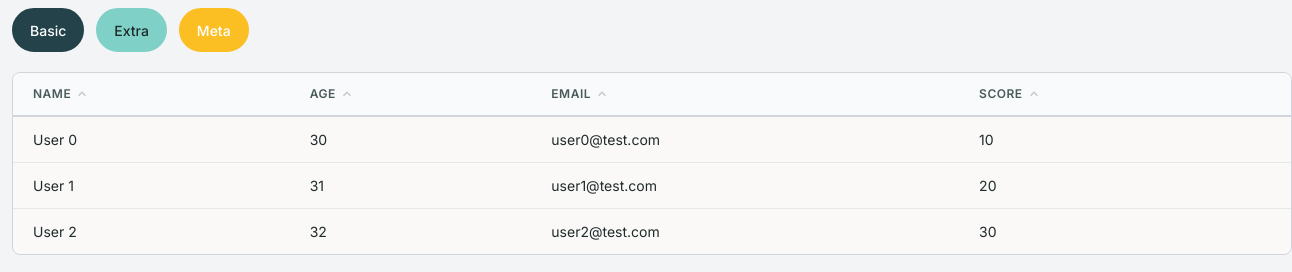
Test: ConfigurableTable › column group toggling › shows columns when a hidden group is toggled on
The width and height of the screenshot is (1292, 272).
# Toggle off extra
Click the button with class "ct-chip" showing "Extra" at (132, 30), box top-left (96, 8), bottom-right (167, 52)
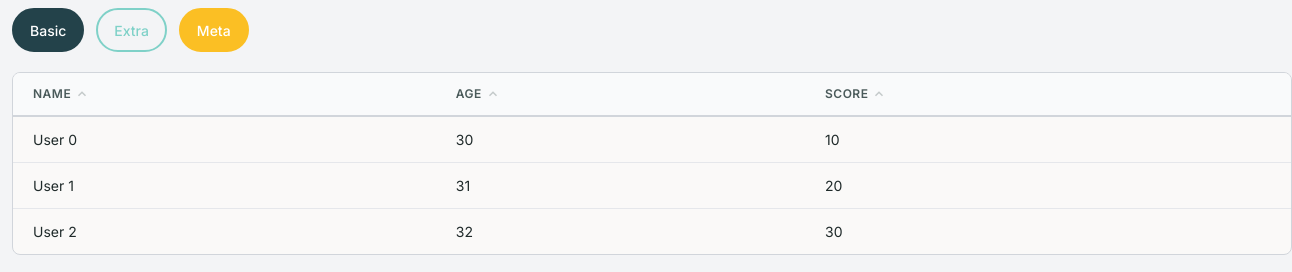
Expected: the number of column headings with class "ct-th-sortable" is 3, top-left (13, 73), bottom-right (436, 116); top-left (436, 73), bottom-right (805, 116); top-left (805, 73), bottom-right (1251, 116)
# Toggle on extra again
Click the button with class "ct-chip" showing "Extra" at (132, 30), box top-left (96, 8), bottom-right (167, 52)
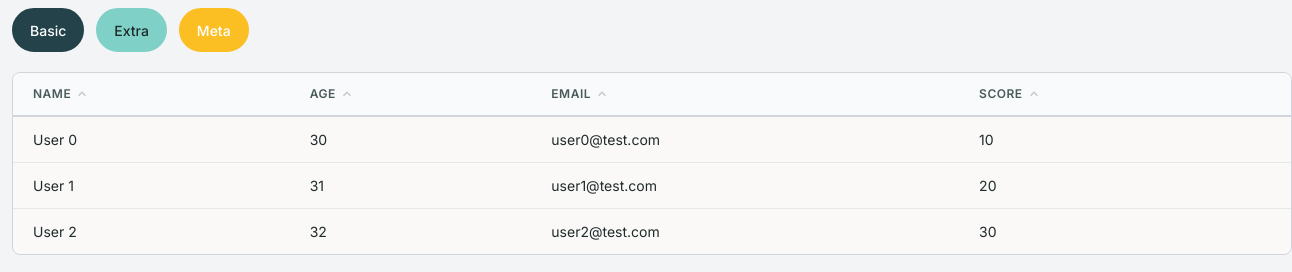
Expected: the number of column headings with class "ct-th-sortable" is 4, top-left (13, 73), bottom-right (290, 116); top-left (290, 73), bottom-right (531, 116); top-left (531, 73), bottom-right (959, 116); top-left (959, 73), bottom-right (1251, 116)
